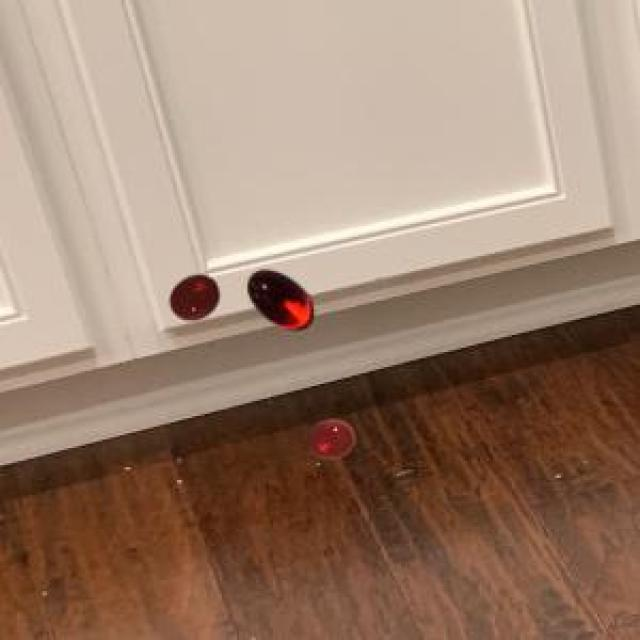Medicol: (243, 251, 322, 344), (158, 257, 225, 331), (298, 406, 365, 470)
